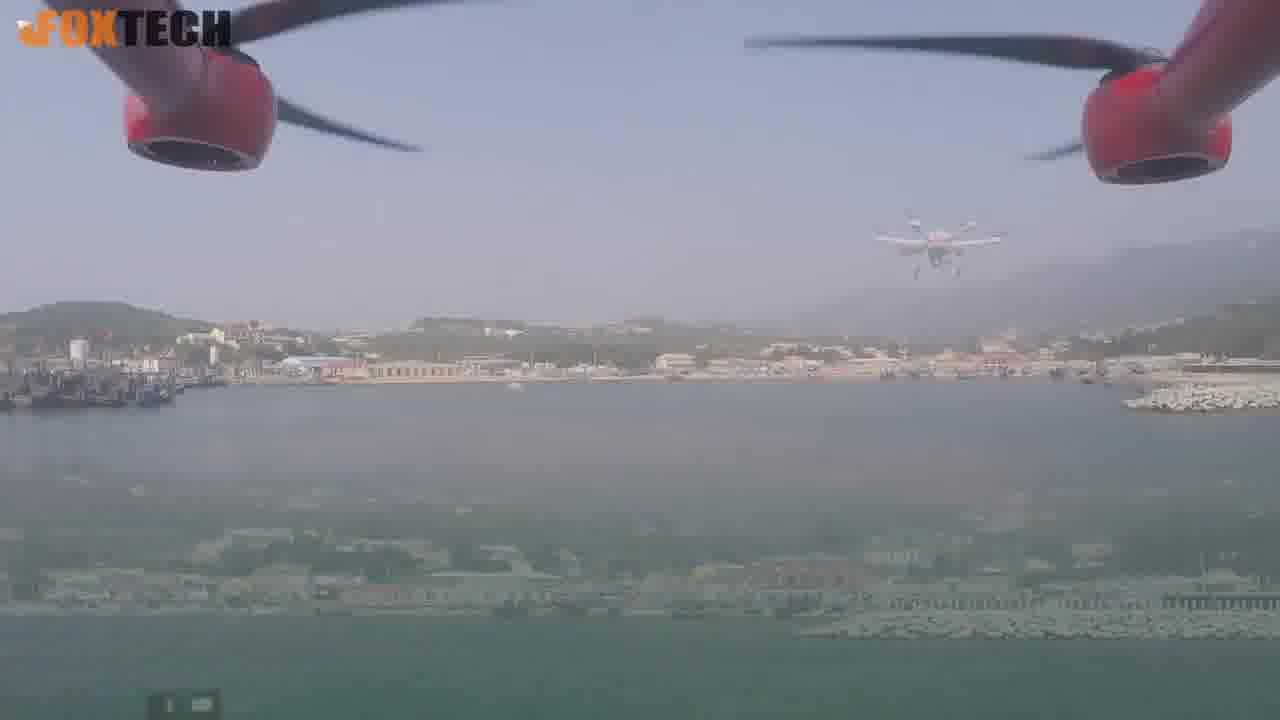drone: (860, 199, 1026, 287)
